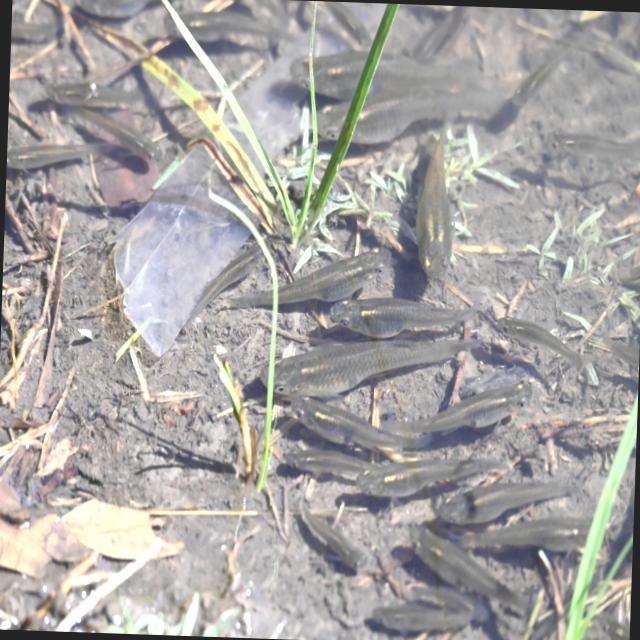Sivrisinek Baligi: (225, 238, 396, 312), (492, 290, 606, 388), (409, 106, 471, 284), (390, 368, 532, 439), (291, 387, 431, 453)
